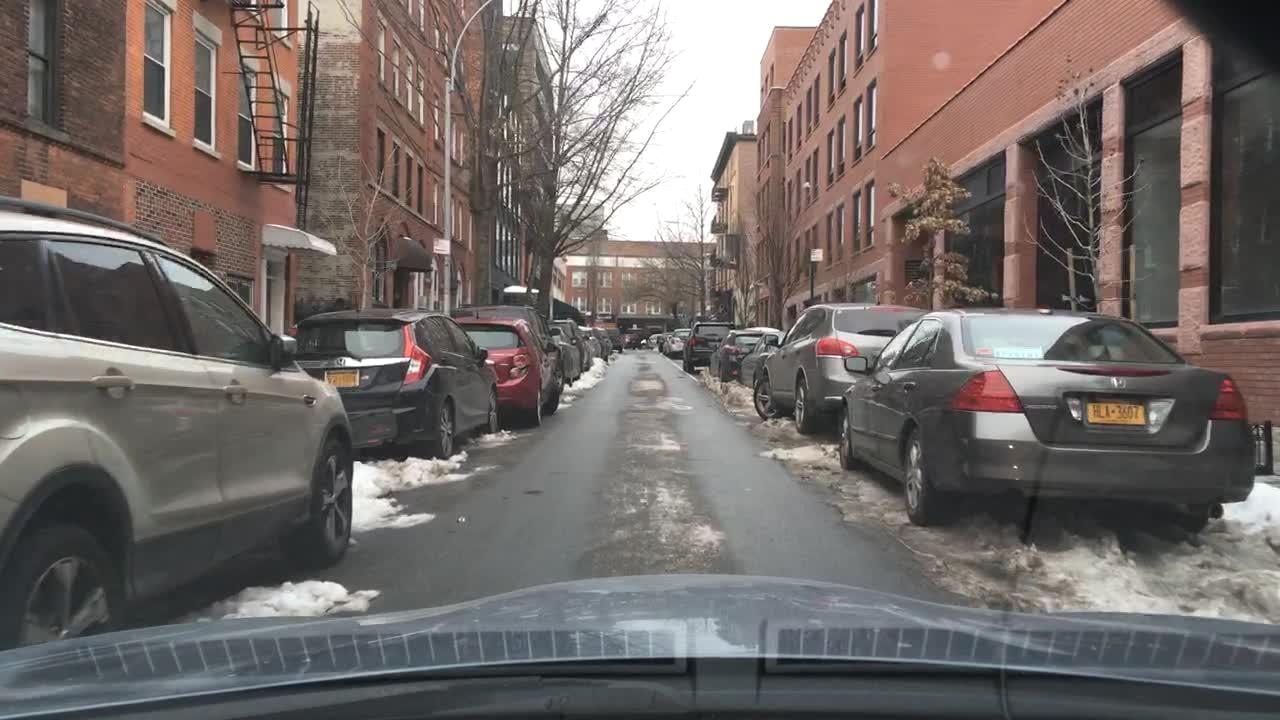Honda: (1107, 369, 1130, 393), (331, 352, 348, 372)
